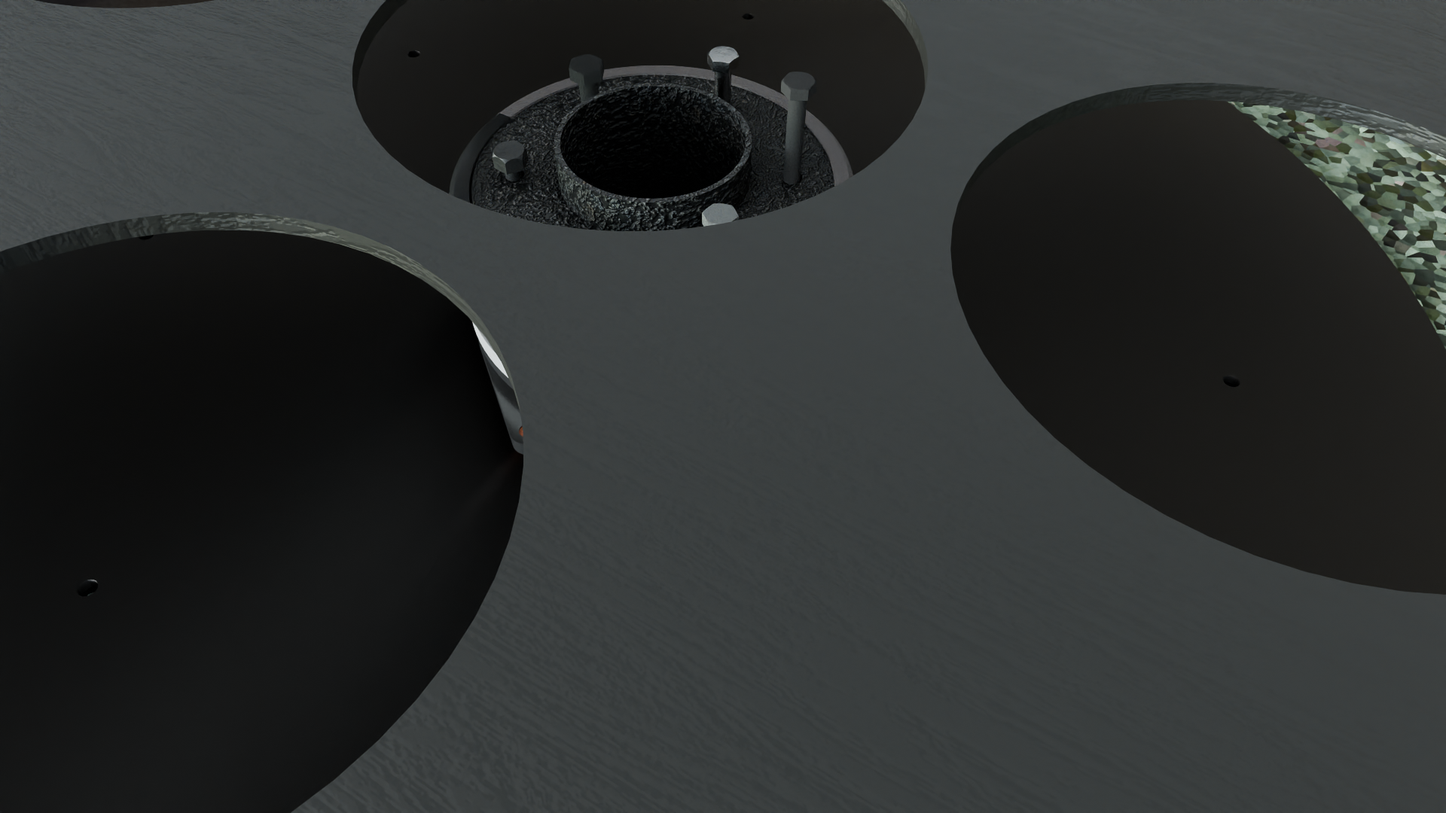bolt: (702, 203, 739, 225), (493, 141, 526, 164), (569, 54, 603, 75), (782, 72, 817, 90), (707, 46, 739, 63)
